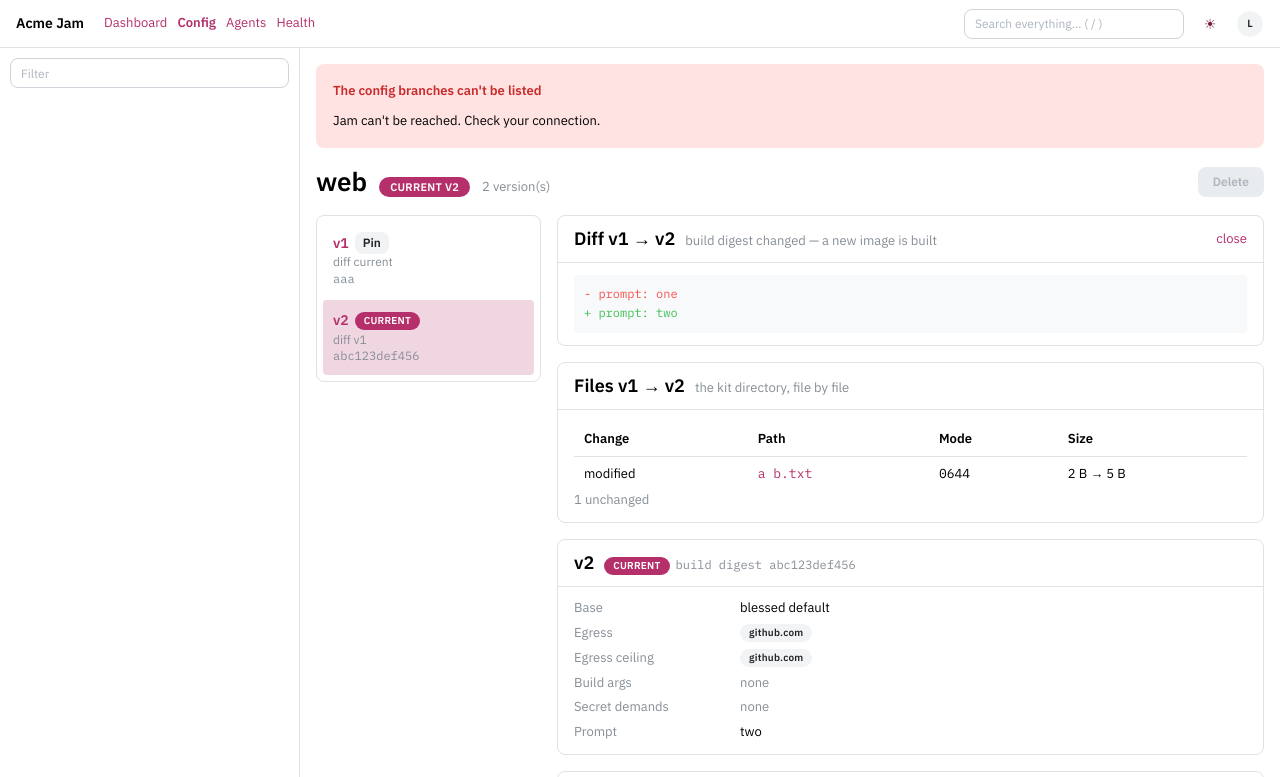
Test: a kit's page › shows a diff with its files, and a changed file's diff
Expected: the heading "Diff v1 → v2" is shown, [574,226,675,252]
Expected: the text "build digest changed — a new image is built" is shown, [685,232,937,251]
Step 1. Click the link "a b.txt" → (785, 473), box [758,465,812,482]
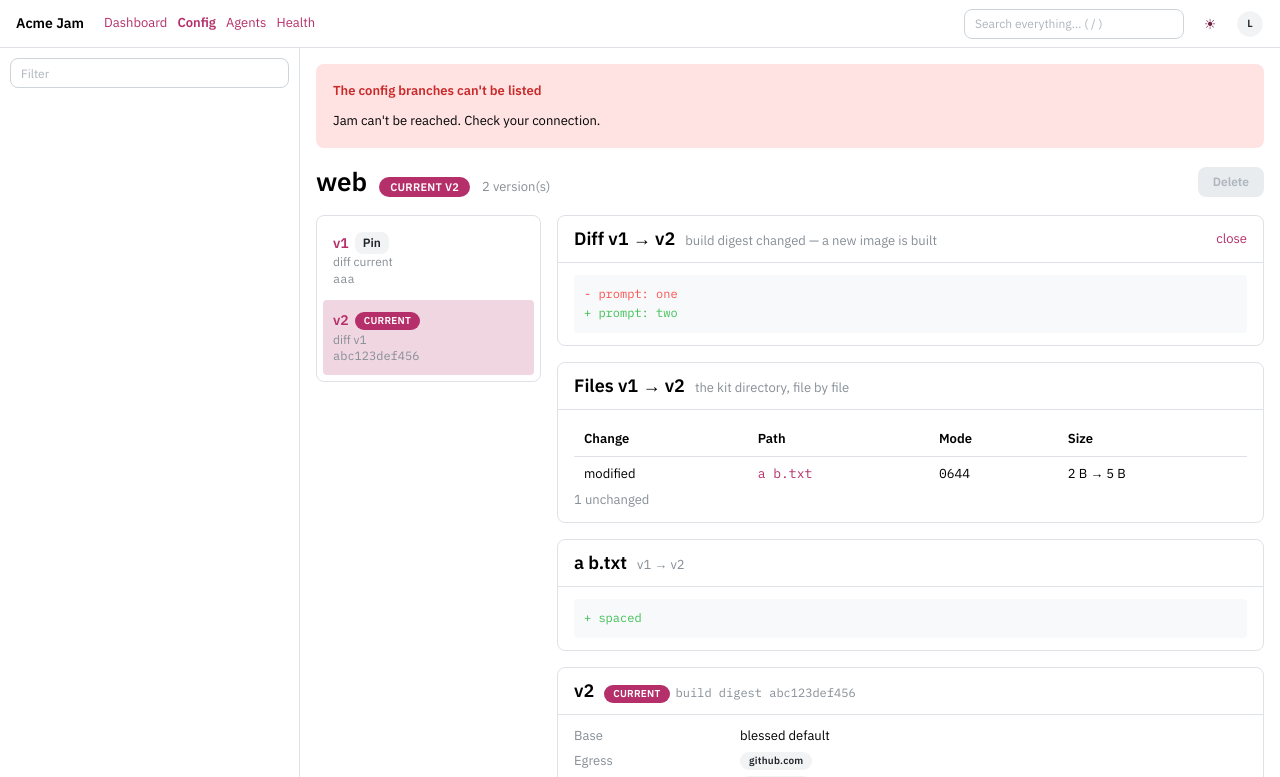
Expected: the text "+ spaced" is shown, [584,610,642,625]
